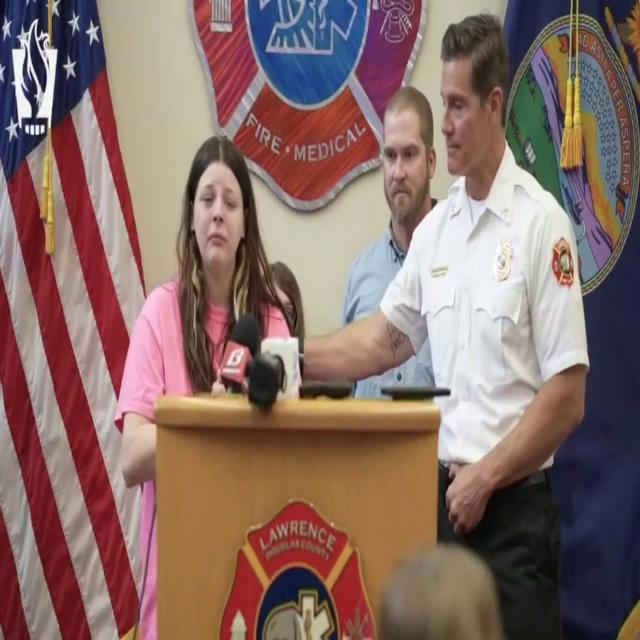adult: (429, 12, 587, 640), (121, 137, 291, 630), (343, 86, 463, 400)
